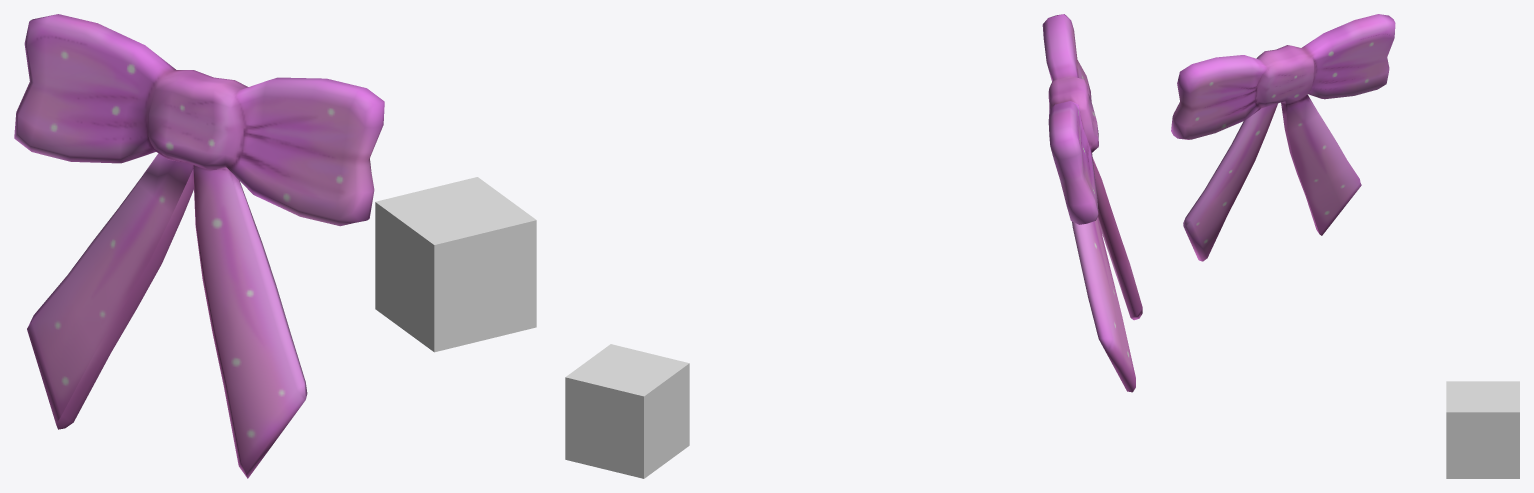
Rendered from ribbon1_girl.FBX.
3 views of the same model, side by side, from view 1: azimuth 30°, elevation 25°; view 2: azimuth 150°, elevation 25°; view 3: azimuth 270°, elevation 25° (orthographic). The views are drawn at different scales.
Visible parts, largest first — view 1: girl_ribbon18, faceSpawn; view 2: girl_ribbon18, faceSpawn; view 3: girl_ribbon18, faceSpawn.
Boxes of the visible parts, <box> form: girl_ribbon18: <box>14,14,384,478</box>; faceSpawn: <box>375,177,536,352</box>; girl_ribbon18: <box>1042,14,1142,392</box>; faceSpawn: <box>565,344,689,478</box>; girl_ribbon18: <box>1171,14,1395,261</box>; faceSpawn: <box>1446,381,1519,478</box>.
Size of the model in its own units: 28.39 by 22.51 by 23.71.
